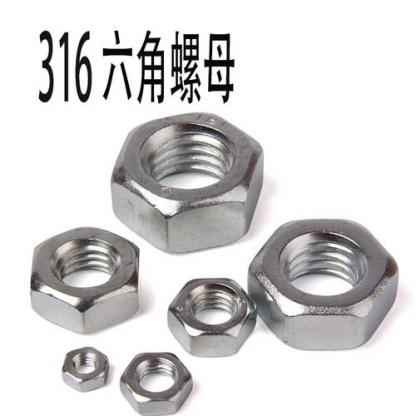FOD: (107, 109, 268, 252), (246, 215, 402, 360), (25, 227, 147, 335), (167, 272, 258, 360), (117, 348, 193, 415), (60, 344, 110, 393)
